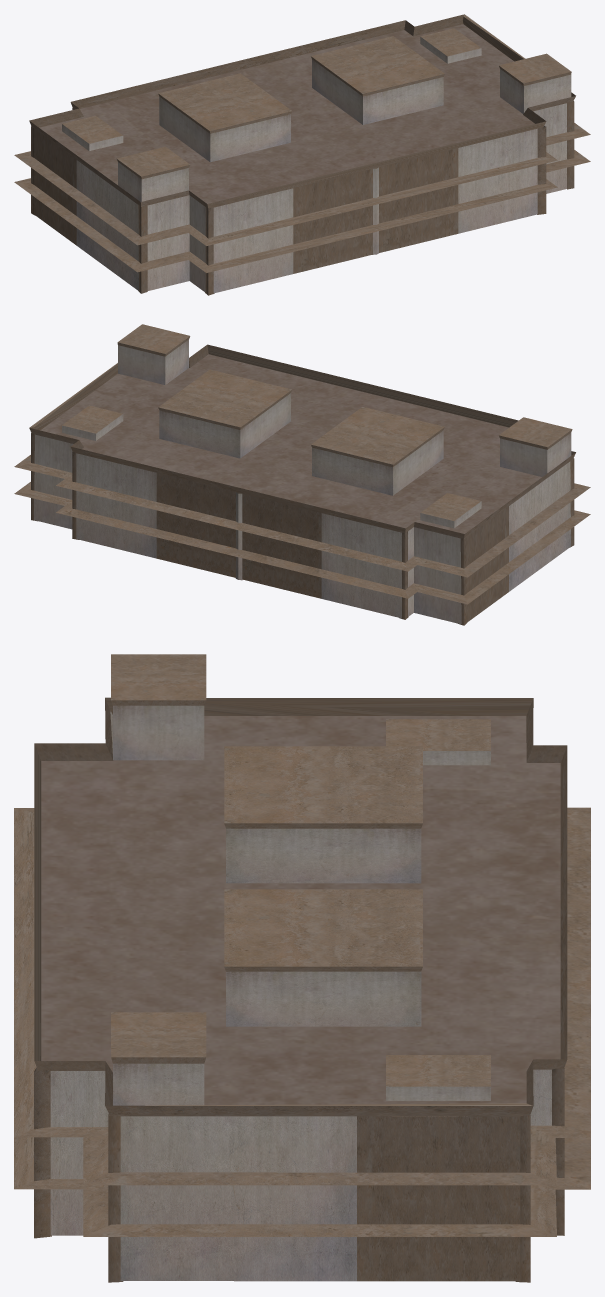
The model's file is ORB_5_Combi_Detail_3.fbx.
3 renders of one model, top to bottom at view 1: azimuth 30°, elevation 25°; view 2: azimuth 150°, elevation 25°; view 3: azimuth 270°, elevation 25°, orthographic. The views are drawn at different scales.
Visible parts, largest first — view 1: ORB_5_Combi_Detail_3; view 2: ORB_5_Combi_Detail_3; view 3: ORB_5_Combi_Detail_3.
Part boxes in pixels (x1,y1,x2,y2): ORB_5_Combi_Detail_3: (14, 14, 590, 295); ORB_5_Combi_Detail_3: (14, 324, 590, 625); ORB_5_Combi_Detail_3: (14, 654, 590, 1282).
Bounding box in the file's own units: 4663 × 1145 × 2676.
